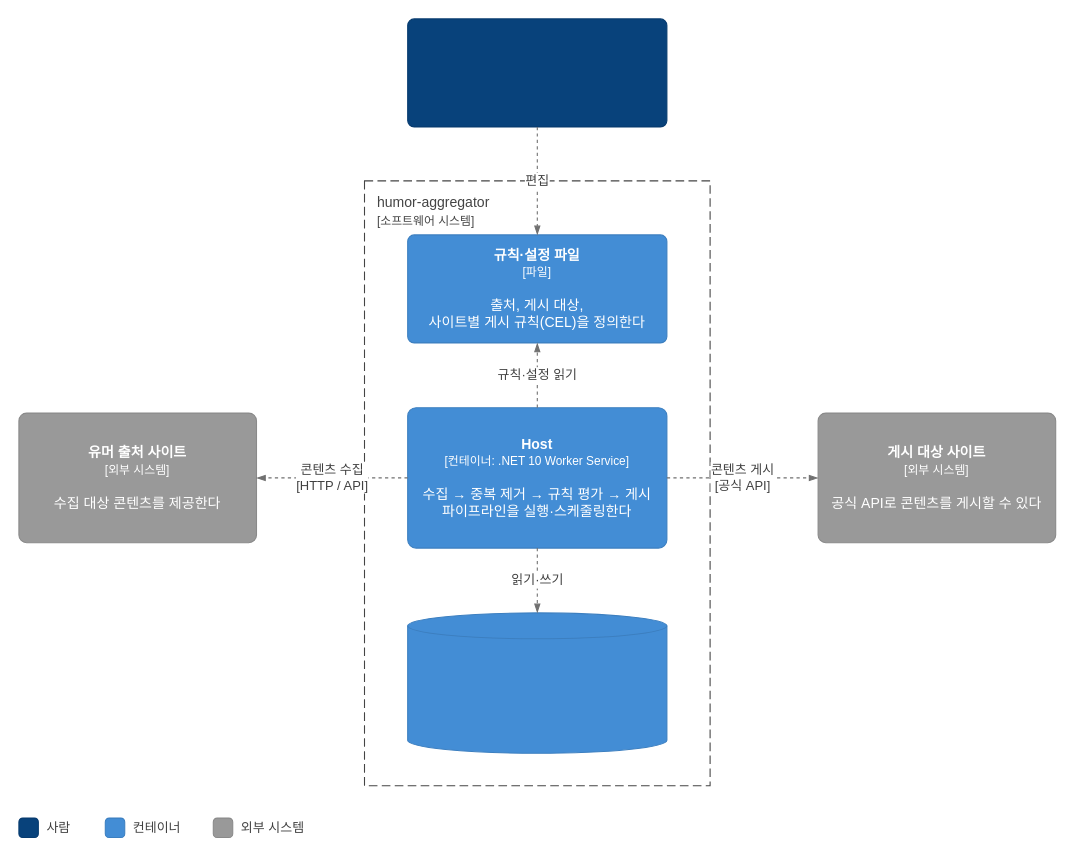
The diagram is 1075 pixels wide and 860 high, and some of its shapes have lost their labels. Here are the shapes that lost their labels. From the top down, the centre of each, then its label:
(537,72): 운영자 [사람] 규칙·설정을 작성한다
(537,682): 데이터 저장소 [데이터베이스: 선정 예정] 수집 콘텐츠, 중복 판정용 해시, 게시 기록을 보관한다
